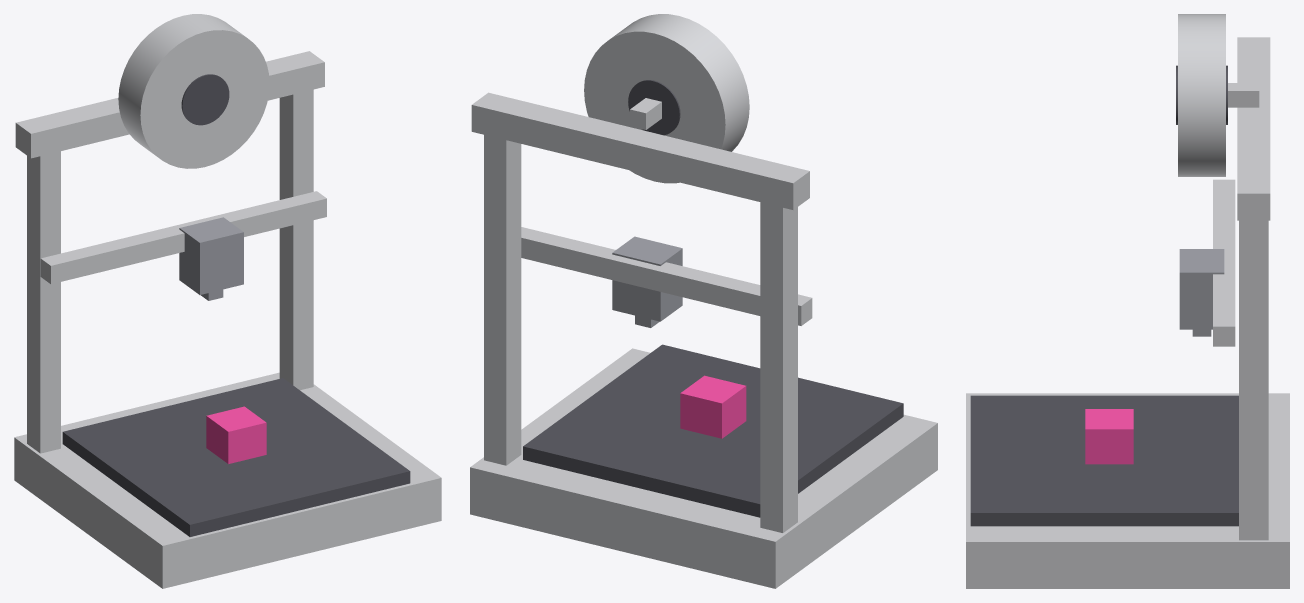
The model's file is printer.glb.
3 views of the same model, side by side, from view 1: azimuth 30°, elevation 25°; view 2: azimuth 150°, elevation 25°; view 3: azimuth 270°, elevation 25° (orthographic). The views are drawn at different scales.
Bounding box in the file's own units: 200 × 294 × 175.
